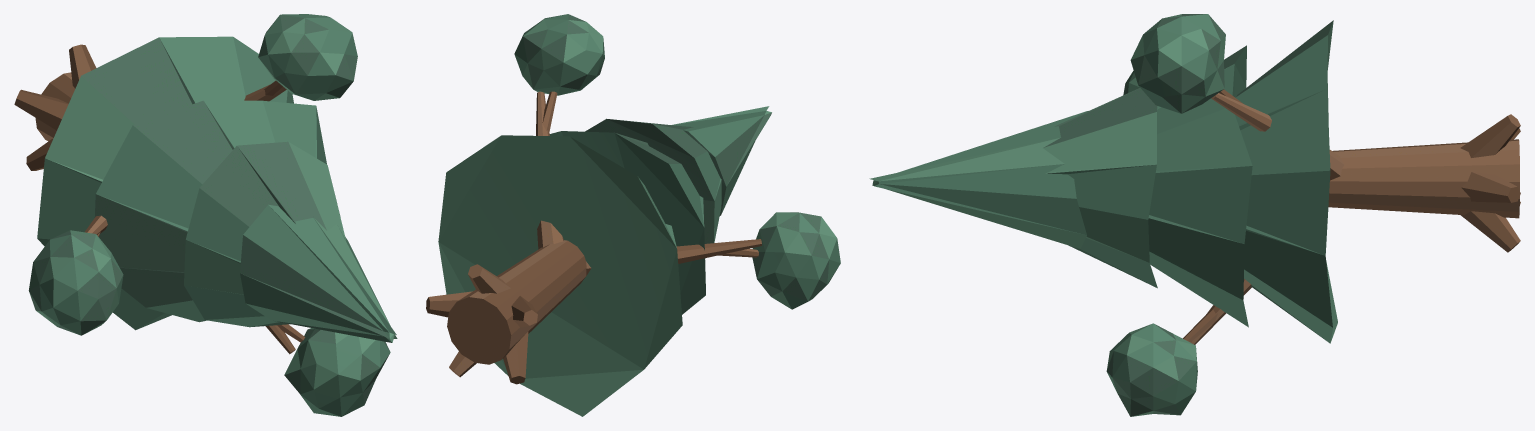
File: k-pine.glb
The picture shows the model from 3 angles, left to right: view 1: azimuth 30°, elevation 25°; view 2: azimuth 150°, elevation 25°; view 3: azimuth 270°, elevation 25°; orthographic projection. The views are drawn at different scales.
Visible parts, largest first — view 1: Canopy.002, Offcut_2.002, Trunk_0.002; view 2: Canopy.002, Offcut_2.002, Trunk_0.002, Trunk_1.002, Offcut_1.002, Canopy_1.002; view 3: Canopy.002, Offcut_2.002, Trunk_0.002, Offcut_1.002, Trunk_1.002.
Boxes of the visible parts, x1=… form: Canopy.002: x1=28, y1=14, x2=397, y2=416; Offcut_2.002: x1=14, y1=44, x2=96, y2=170; Trunk_0.002: x1=35, y1=72, x2=74, y2=140; Canopy.002: x1=438, y1=14, x2=840, y2=416; Offcut_2.002: x1=426, y1=259, x2=563, y2=384; Trunk_0.002: x1=460, y1=240, x2=586, y2=358; Trunk_1.002: x1=460, y1=240, x2=584, y2=346; Offcut_1.002: x1=519, y1=243, x2=586, y2=307; Canopy_1.002: x1=537, y1=91, x2=760, y2=271; Canopy.002: x1=869, y1=14, x2=1344, y2=416; Offcut_2.002: x1=1389, y1=114, x2=1520, y2=252; Trunk_0.002: x1=1329, y1=139, x2=1519, y2=217; Offcut_1.002: x1=1328, y1=155, x2=1394, y2=210; Trunk_1.002: x1=1329, y1=140, x2=1519, y2=217.
Bounding box in the file's own units: 0.034 × 0.0366 × 0.0554.
1 material, 1 textured.
